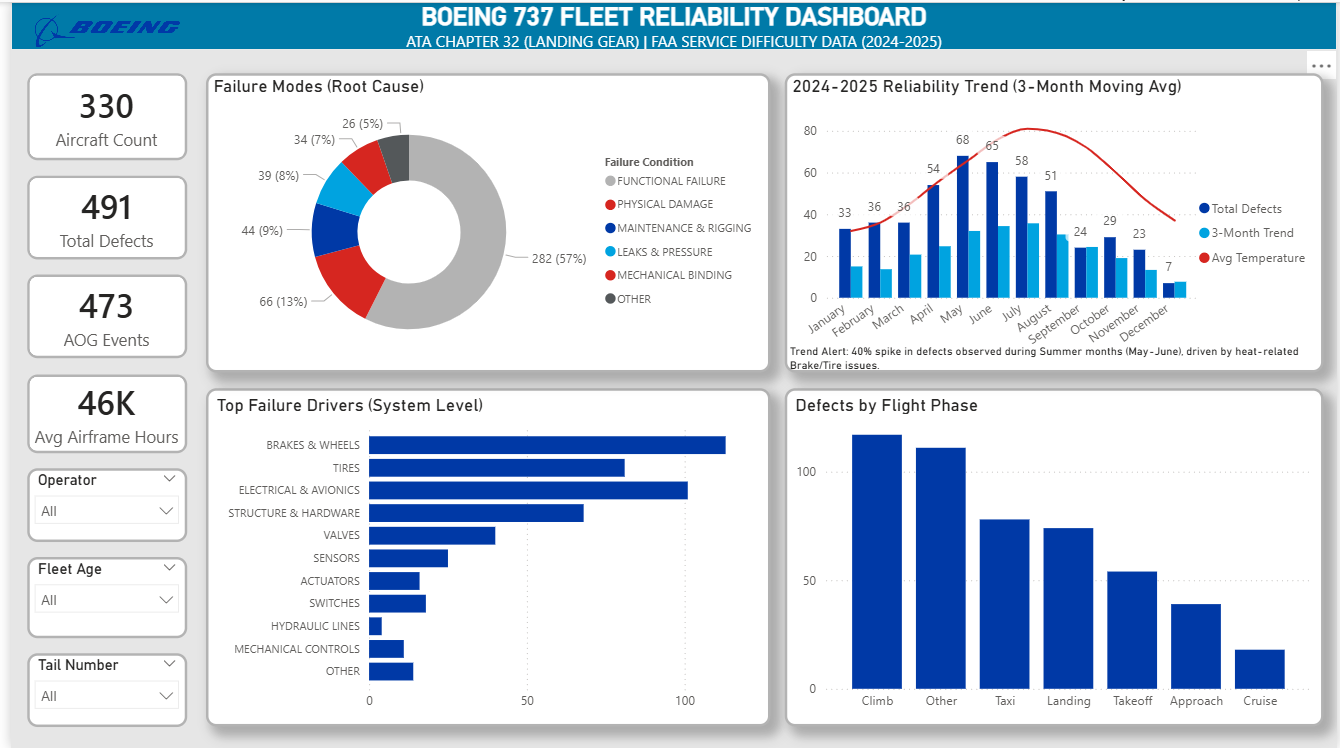

This screenshot's page, from the dashboard's own definition file:
{"tool":"powerbi","page":{"name":"Main","canvas":[1280,720],"ordinal":0},"visuals":[{"type":"clusteredBarChart","title":"Top Failure Drivers (System Level)","fields":{"Category":["aviation_project sdr_landing_gear.PartName (groups)"],"Y":["_key_measures.Total Defects"]},"box":[187.8,372.2,544.4,326.7],"z":1000},{"type":"slicer","title":"Filter by Operator","fields":{"Values":["aviation_project sdr_landing_gear.OperatorDesignator"]},"box":[16,449.7,154,71],"z":2000},{"type":"donutChart","title":"Failure Modes (Root Cause)","fields":{"Y":["_key_measures.Total Defects"],"Category":["aviation_project sdr_landing_gear.PartCondition (groups)"]},"box":[187.8,68.9,544.4,288.9],"z":3000},{"type":"shape","title":"BOEING 737 FLEET RELIABILITY DASHBOARD","box":[0,0,1280,45.6],"z":4000},{"type":"image","box":[15.6,0,154.4,45.6],"z":5000},{"type":"columnChart","title":"Defects by Flight Phase","fields":{"Y":["_key_measures.Total Defects"],"Category":["aviation_project sdr_landing_gear.StageOfOperationCode (groups)"]},"box":[746.7,372.2,520,326.7],"z":6000},{"type":"cardVisual","fields":{"Data":["_key_measures.Aircraft Count"]},"box":[16,69,154,84],"z":7000},{"type":"cardVisual","title":"Avg. Airframe Hours","fields":{"Data":["_key_measures.Avg Airframe Age"]},"box":[16,359.1,154,76],"z":8000},{"type":"lineClusteredColumnComboChart","title":"2024-2025 Reliability Trend (3-Month Moving Avg)","fields":{"Category":["DateTable.Date.Variation.Date Hierarchy.Month"],"Y":["_key_measures.Total Defects","_key_measures.3-Month Trend"],"Y2":["Sum(US_Temp_Data.AvgTemp)"]},"box":[746.9,69.2,520,288.5],"z":9000},{"type":"cardVisual","fields":{"Data":["_key_measures.Total Defects"]},"box":[15.6,167.6,154.4,81.1],"z":10000},{"type":"slicer","title":"Search Tail Number","fields":{"Values":["aviation_project sdr_landing_gear.RegistryNNumber"]},"box":[16,628,154,71],"z":11000},{"type":"slicer","fields":{"Values":["aviation_project sdr_landing_gear.Fleet Age Group"]},"box":[16,535.4,154,78],"z":12000},{"type":"cardVisual","fields":{"Data":["_key_measures.AOG Events"]},"box":[15.6,263.4,154.4,81.1],"z":13000},{"type":"textbox","title":"Trend Alert: 40% spike in defects observed during Summer months (May-June), driven by heat-related Brake/Tire issues.","box":[746.7,330.7,520,27.3],"z":14000}]}

Visuals, with their boxes in screenshot pixels (x1, y1, x2, y2), scaled from the page's 1280x720 canvas onto the 1340x748 screenshot:
"Top Failure Drivers (System Level)" clusteredBarChart: locate(197, 387, 767, 726)
"Filter by Operator" slicer: locate(17, 467, 178, 541)
"Failure Modes (Root Cause)" donutChart: locate(197, 72, 767, 372)
"BOEING 737 FLEET RELIABILITY DASHBOARD" shape: locate(0, 0, 1339, 47)
image: locate(16, 0, 178, 47)
"Defects by Flight Phase" columnChart: locate(782, 387, 1326, 726)
cardVisual - _key_measures.Aircraft Count: locate(17, 72, 178, 159)
"Avg. Airframe Hours" cardVisual: locate(17, 373, 178, 452)
"2024-2025 Reliability Trend (3-Month Moving Avg)" lineClusteredColumnComboChart: locate(782, 72, 1326, 372)
cardVisual - _key_measures.Total Defects: locate(16, 174, 178, 258)
"Search Tail Number" slicer: locate(17, 652, 178, 726)
slicer - aviation_project sdr_landing_gear.Fleet Age Group: locate(17, 556, 178, 637)
cardVisual - _key_measures.AOG Events: locate(16, 274, 178, 358)
"Trend Alert: 40% spike in defects observed during Summer months (May-June), driven by heat-related Brake/Tire issues." textbox: locate(782, 344, 1326, 372)
